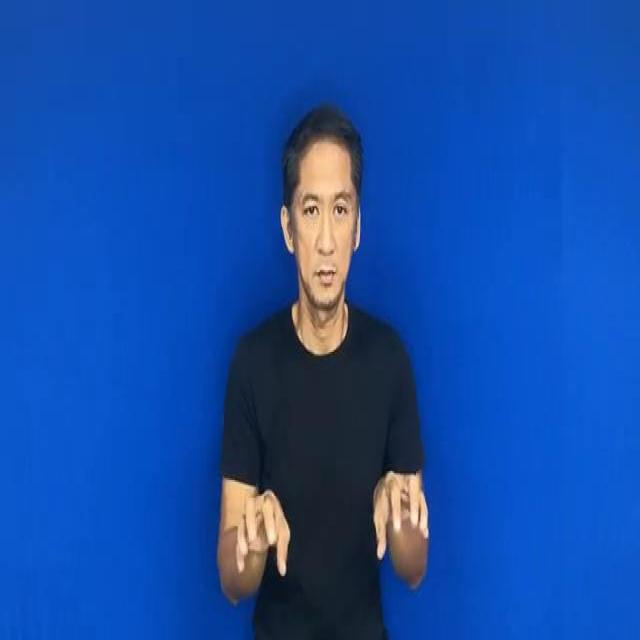egg: (207, 460, 439, 572)
